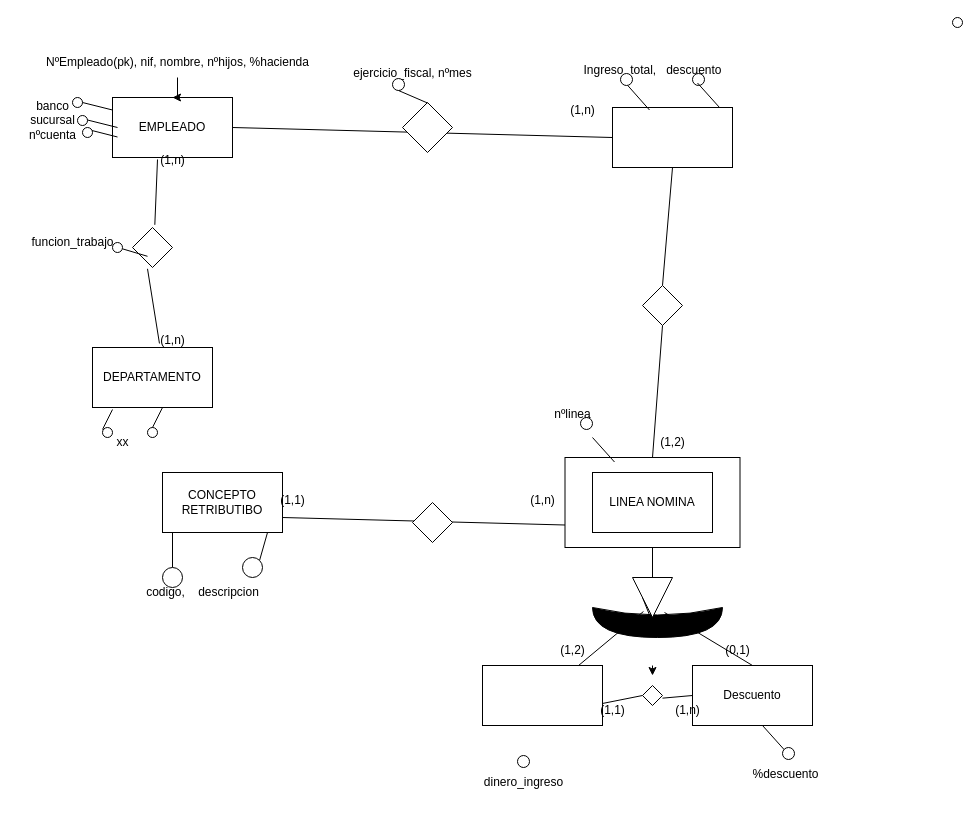
This 980x815 diagram has some shape labels left out. Each missing label, with the box of its shape:
Ingreso: (482, 664, 602, 726)
NOMINA: (612, 106, 732, 168)
